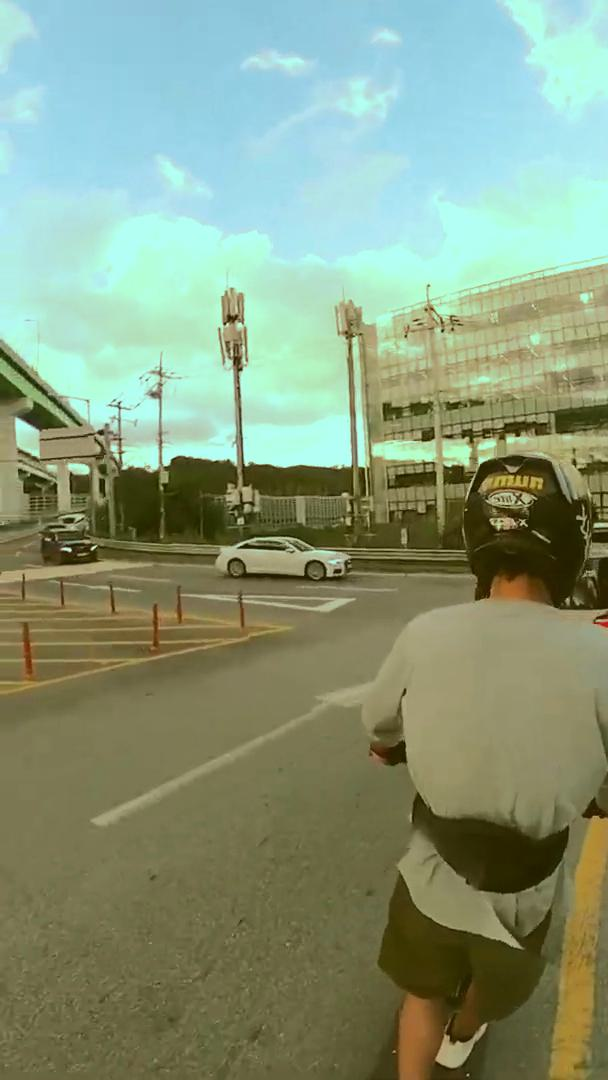helmet: (362, 450, 607, 1080)
